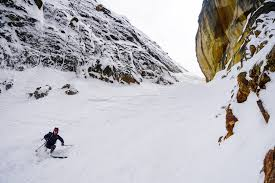skier: (25, 122, 80, 166)
